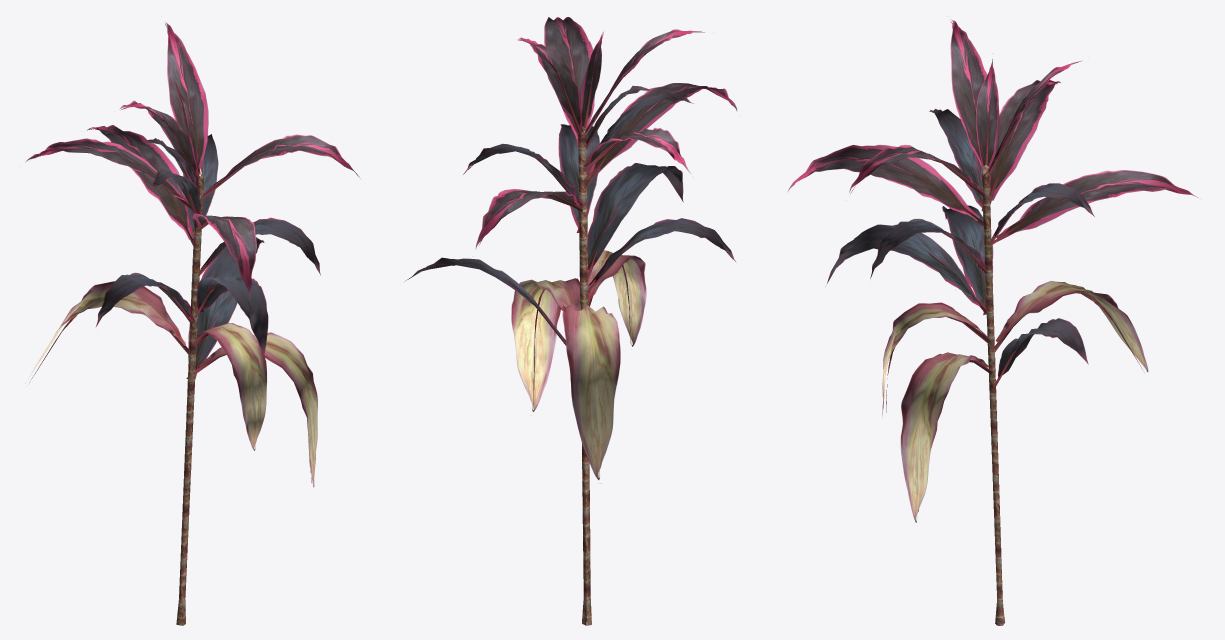
The model's file is Hajuang_red_01_002.glb.
The picture shows the model from 3 angles, left to right: view 1: azimuth 30°, elevation 25°; view 2: azimuth 150°, elevation 25°; view 3: azimuth 270°, elevation 25°; orthographic projection. The views are drawn at different scales.
Parts seen in each view (by area): view 1: Hajuang_red_01.002; view 2: Hajuang_red_01.002; view 3: Hajuang_red_01.002.
Part boxes in pixels (box(x1,y1,x2,y2)): Hajuang_red_01.002: box(26, 22, 360, 625); Hajuang_red_01.002: box(404, 17, 737, 625); Hajuang_red_01.002: box(788, 19, 1198, 625).
Bounding box in the file's own units: 0.4434 × 0.8816 × 0.5938.
5 materials, 5 textured.
